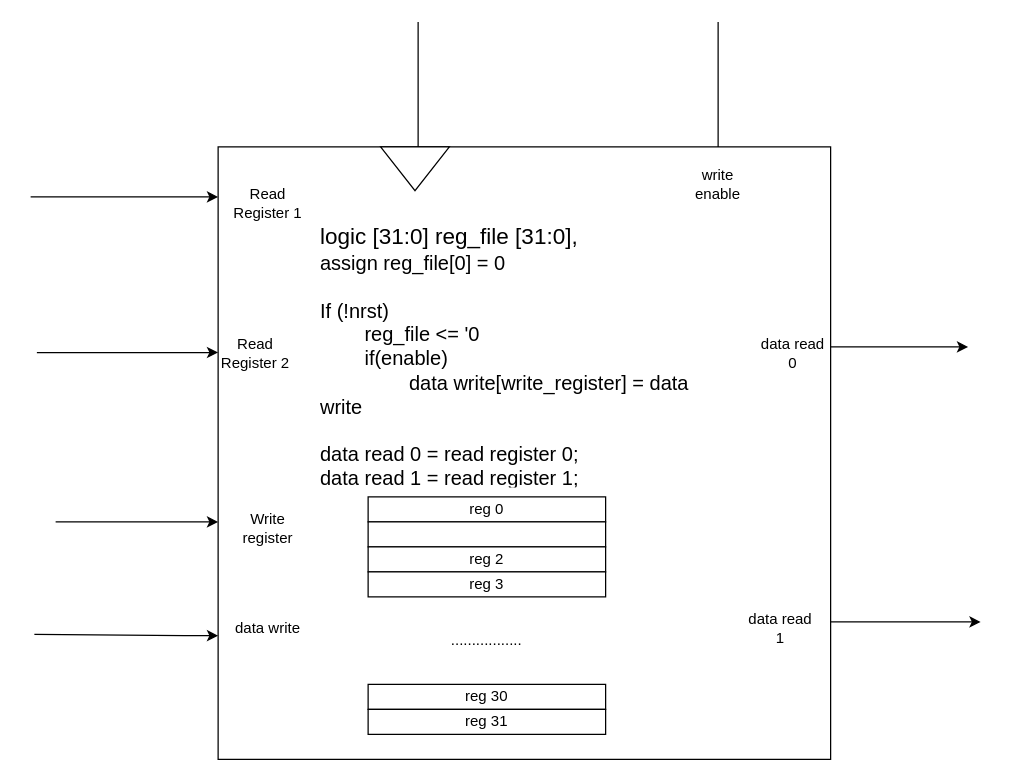
The diagram is 1013 pixels wide and 781 high, and some of its shapes have lost their labels. The shapes that lost their labels are listed below. From the top down, each one's centre as x and y in pixels, then its label:
point 414,168: Clock
point 486,534: reg 1
